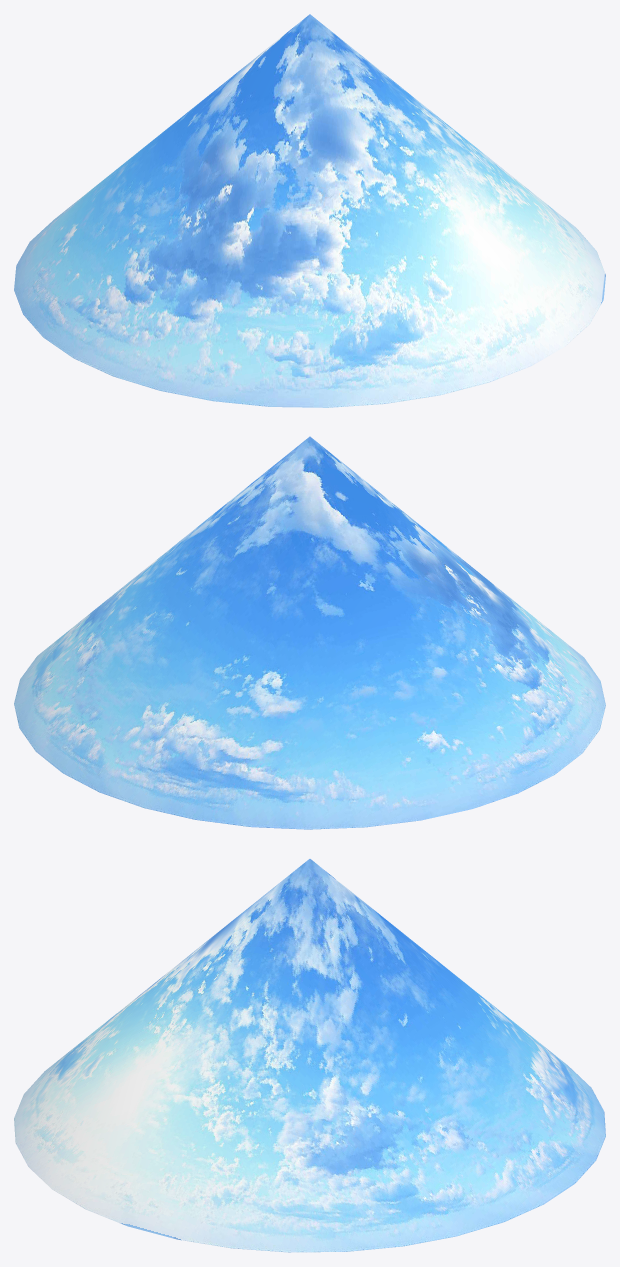
The model's file is Skybox.glb.
The picture shows the model from 3 angles, top to bottom: view 1: azimuth 30°, elevation 25°; view 2: azimuth 150°, elevation 25°; view 3: azimuth 270°, elevation 25°; orthographic projection.
Visible parts, largest first — view 1: Skybox_Export; view 2: Skybox_Export; view 3: Skybox_Export.
Part boxes in pixels (x1,y1,x2,y2): Skybox_Export: [14, 14, 605, 407]; Skybox_Export: [14, 436, 605, 829]; Skybox_Export: [14, 859, 605, 1252].
Bounding box in the file's own units: 210 × 105 × 210.
1 material, 1 textured.
